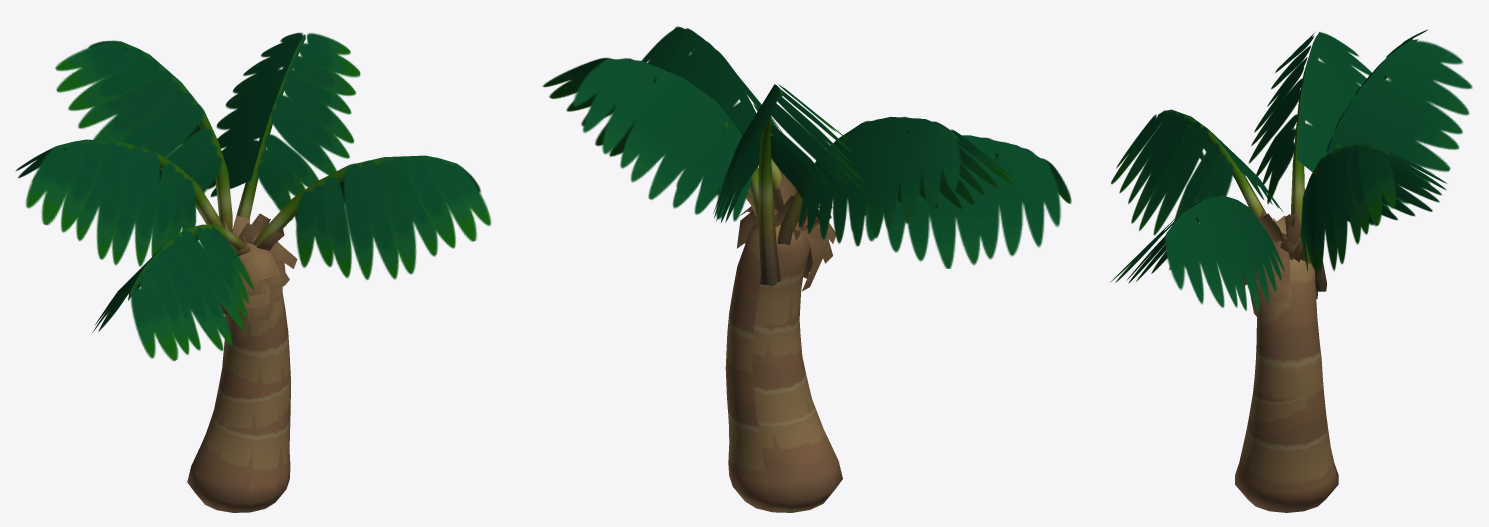
Rendered from palmtree.glb.
3 views of the same model, side by side, from view 1: azimuth 30°, elevation 25°; view 2: azimuth 150°, elevation 25°; view 3: azimuth 270°, elevation 25° (orthographic). The views are drawn at different scales.
Parts seen in each view (by area): view 1: pCylinder12_1__mIdrTreePalmLeaf, group83_pCylinder51__mIdrTreePalmTrunk; view 2: pCylinder12_1__mIdrTreePalmLeaf, group83_pCylinder51__mIdrTreePalmTrunk; view 3: pCylinder12_1__mIdrTreePalmLeaf, group83_pCylinder51__mIdrTreePalmTrunk.
Part boxes in pixels (x1=…): pCylinder12_1__mIdrTreePalmLeaf: x1=15, y1=32, x2=491, y2=361; group83_pCylinder51__mIdrTreePalmTrunk: x1=187, y1=213, x2=297, y2=512; pCylinder12_1__mIdrTreePalmLeaf: x1=542, y1=26, x2=1071, y2=286; group83_pCylinder51__mIdrTreePalmTrunk: x1=725, y1=172, x2=842, y2=512; pCylinder12_1__mIdrTreePalmLeaf: x1=1110, y1=29, x2=1472, y2=311; group83_pCylinder51__mIdrTreePalmTrunk: x1=1235, y1=209, x2=1338, y2=512.
Bounding box in the file's own units: 0.9017 × 0.941 × 0.6973.
Materials: 2 (2 with a texture image).
